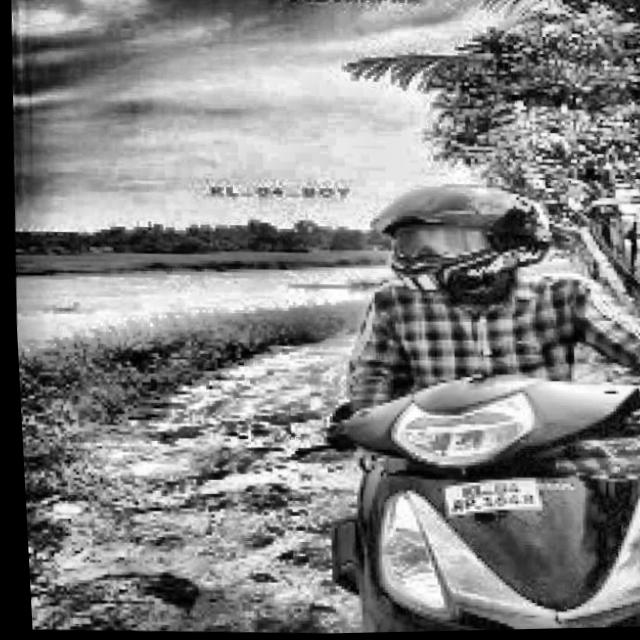motorcycle: (280, 363, 640, 635)
